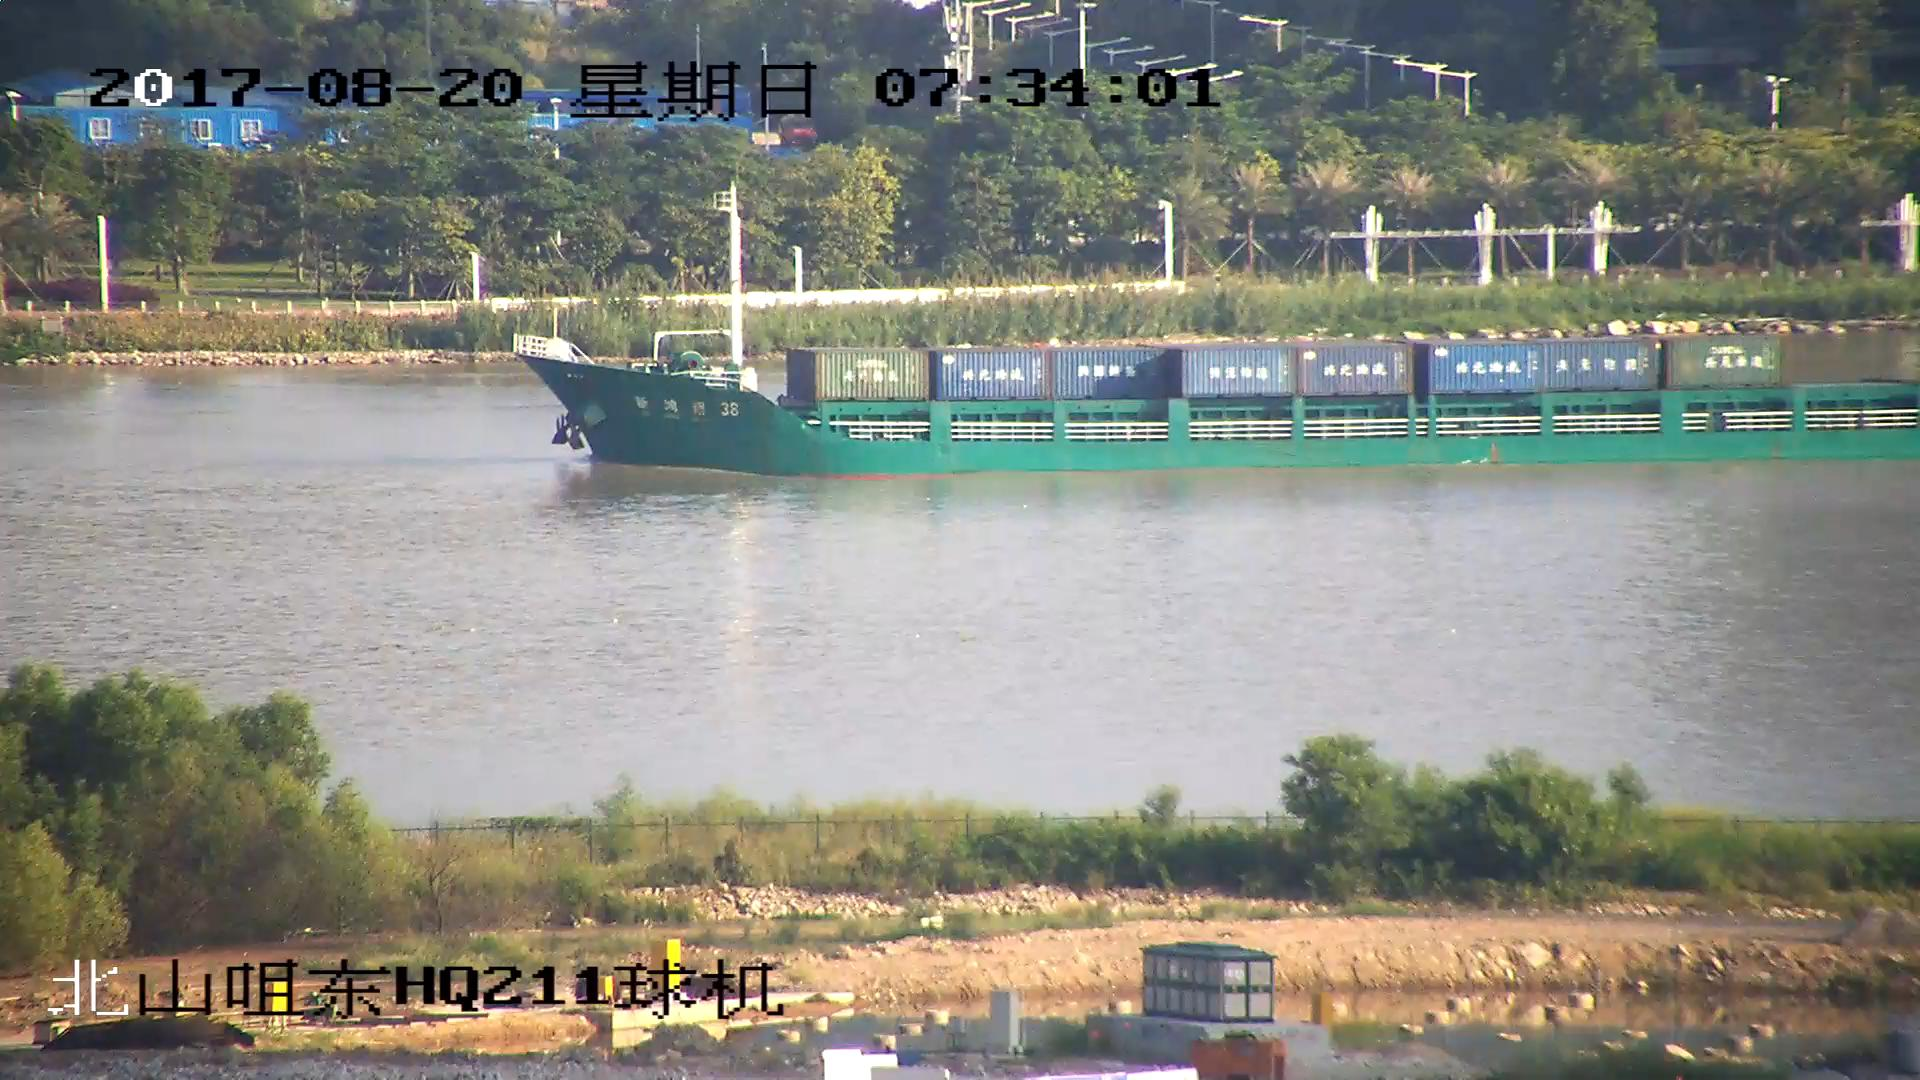general cargo ship: (514, 185, 1920, 474)
